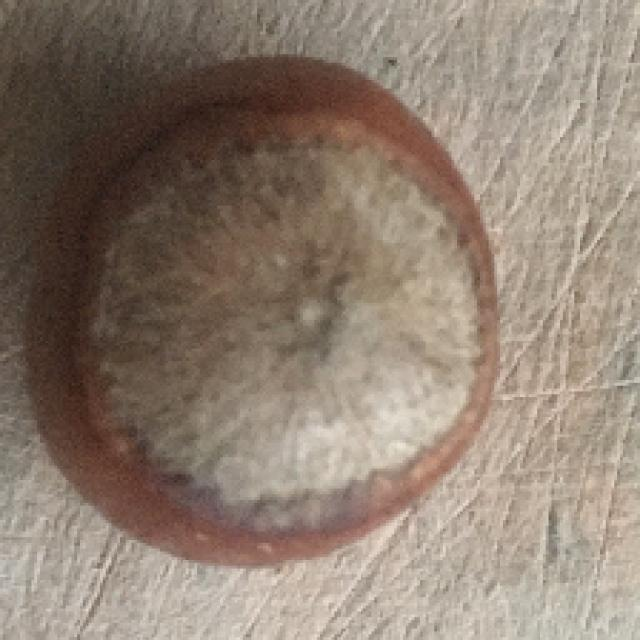qualityHazelnut: (17, 49, 510, 573)
